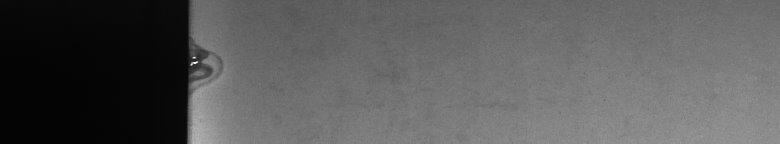hb: (200, 40, 227, 93)
